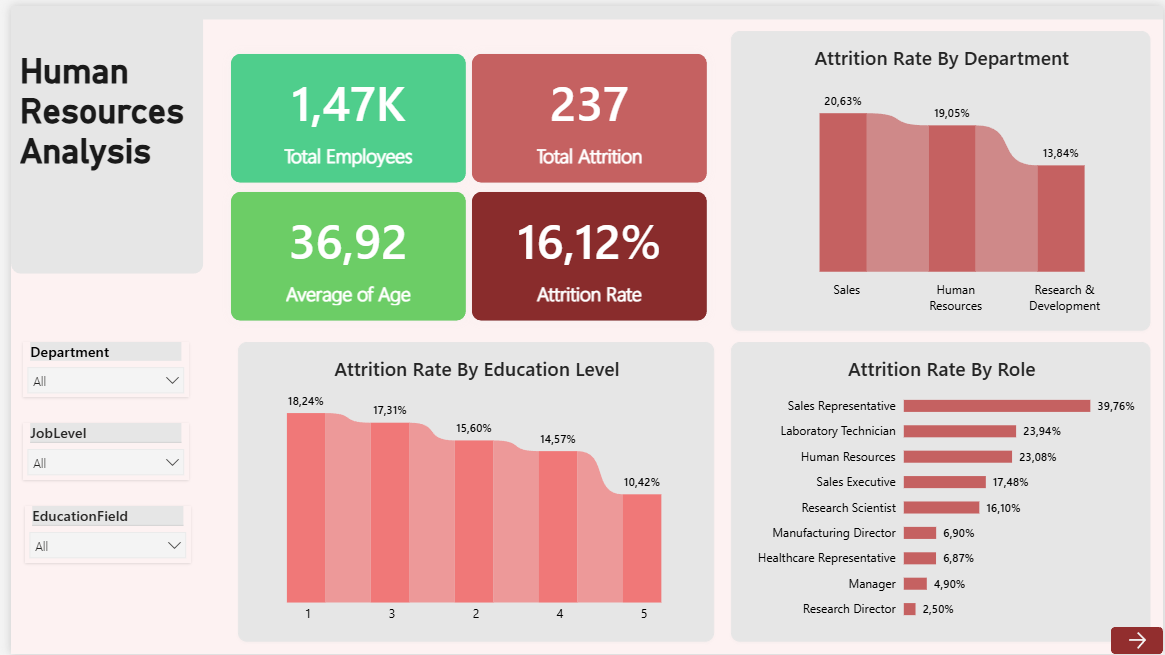

The page's visual inventory and layout, read from the dashboard file:
{"tool":"powerbi","page":{"name":"Overview","canvas":[1280,720],"ordinal":0},"visuals":[{"type":"cardVisual","title":"Total Emplo","fields":{"Data":["Avg(HR-Employee-Attrition.Age)"]},"box":[233.8,195,283.8,165],"z":0},{"type":"columnChart","title":"Attrition Rate By Education Level","fields":{"Category":["HR-Employee-Attrition.Education"],"Y":["HR-Employee-Attrition.Attrition Rate"]},"box":[252.5,373.8,528.8,332.5],"z":1000},{"type":"columnChart","title":"Attrition Rate By Department","fields":{"Category":["HR-Employee-Attrition.Department"],"Y":["HR-Employee-Attrition.Attrition Rate"]},"box":[800,27.5,466.2,332.5],"z":2000},{"type":"clusteredBarChart","title":"Attrition Rate By Role","fields":{"Category":["HR-Employee-Attrition.JobRole"],"Y":["HR-Employee-Attrition.Attrition Rate"]},"box":[800,373.8,466.2,332.5],"z":3000},{"type":"slicer","fields":{"Values":["HR-Employee-Attrition.Department"]},"box":[13.8,373.8,183.8,61.2],"z":4000},{"type":"slicer","fields":{"Values":["HR-Employee-Attrition.JobLevel"]},"box":[13.8,463.8,183.8,62.5],"z":5000},{"type":"cardVisual","title":"Total Emplo","fields":{"Data":["HR-Employee-Attrition.Attrition Rate"]},"box":[501.2,195,283.8,165],"z":6000},{"type":"cardVisual","title":"Total Emplo","fields":{"Data":["HR-Employee-Attrition.Total Employees"]},"box":[233.8,42.5,283.8,165],"z":7000},{"type":"cardVisual","title":"Total Emplo","fields":{"Data":["HR-Employee-Attrition.Total Attrition"]},"box":[501.2,42.5,283.8,165],"z":8000},{"type":"shape","box":[0,0,1280,15],"z":9000},{"type":"shape","box":[0,0,213.8,297.5],"z":10000},{"type":"textbox","box":[10,50,213.8,247.5],"z":11000},{"type":"slicer","fields":{"Values":["HR-Employee-Attrition.EducationField"]},"box":[15,555,183.8,62.5],"z":12000},{"type":"actionButton","box":[1222.2,690,57.8,30],"z":13000}]}

Visuals, with their boxes in screenshot pixels (x1, y1, x2, y2), scaled from the page's 1280x720 canvas onto the 1165x655 screenshot:
"Total Emplo" cardVisual: bbox=[213, 177, 471, 328]
"Attrition Rate By Education Level" columnChart: bbox=[230, 340, 711, 643]
"Attrition Rate By Department" columnChart: bbox=[728, 25, 1152, 328]
"Attrition Rate By Role" clusteredBarChart: bbox=[728, 340, 1152, 643]
slicer - HR-Employee-Attrition.Department: bbox=[13, 340, 180, 396]
slicer - HR-Employee-Attrition.JobLevel: bbox=[13, 422, 180, 479]
"Total Emplo" cardVisual: bbox=[456, 177, 714, 328]
"Total Emplo" cardVisual: bbox=[213, 39, 471, 189]
"Total Emplo" cardVisual: bbox=[456, 39, 714, 189]
shape: bbox=[0, 0, 1164, 14]
shape: bbox=[0, 0, 195, 271]
textbox: bbox=[9, 45, 204, 271]
slicer - HR-Employee-Attrition.EducationField: bbox=[14, 505, 181, 562]
actionButton: bbox=[1112, 628, 1164, 654]
